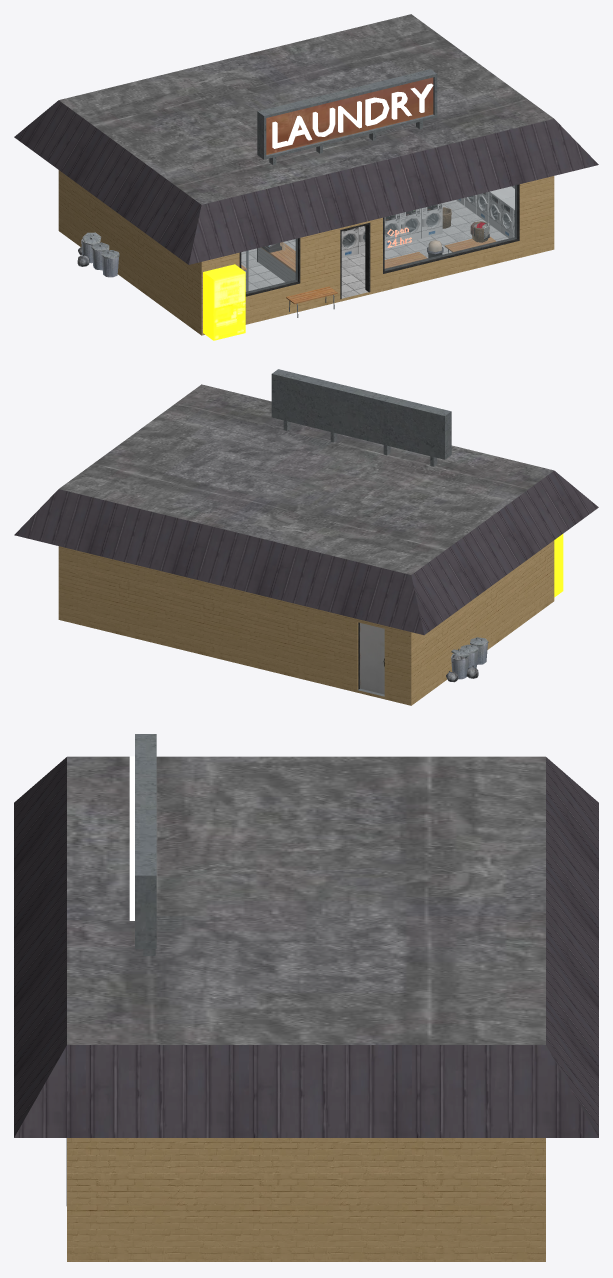
Rendered from laundromat.glb.
The picture shows the model from 3 angles, top to bottom: view 1: azimuth 30°, elevation 25°; view 2: azimuth 150°, elevation 25°; view 3: azimuth 270°, elevation 25°; orthographic projection. The views are drawn at different scales.
Parts seen in each view (by area): view 1: Laundry_building, Laundry_cover, TilesPlain, Sign_Laundry, Vending_machine, Laundry, frame_door, Text, WoodPlanksClean, Laundry_01, trash_can_01, basket; view 2: Laundry_building, TilesPlain, DoorsWood_01, trash_can_01, Vending_machine; view 3: Laundry_building, TilesPlain, Text.
Boxes of the visible parts, <box> form: Laundry_building: <box>14,14,598,335</box>; Laundry_cover: <box>241,185,516,293</box>; TilesPlain: <box>241,69,508,317</box>; Sign_Laundry: <box>266,77,433,154</box>; Vending_machine: <box>203,264,245,340</box>; Laundry: <box>341,192,514,257</box>; frame_door: <box>239,184,519,299</box>; Text: <box>272,83,433,148</box>; WoodPlanksClean: <box>241,236,496,304</box>; Laundry_01: <box>400,186,514,243</box>; trash_can_01: <box>81,232,119,277</box>; basket: <box>442,207,489,242</box>; Laundry_building: <box>14,384,598,705</box>; TilesPlain: <box>271,369,451,696</box>; DoorsWood_01: <box>360,623,384,694</box>; trash_can_01: <box>451,637,488,679</box>; Vending_machine: <box>554,534,563,597</box>; Laundry_building: <box>14,756,598,1261</box>; TilesPlain: <box>135,734,156,955</box>; Text: <box>129,756,134,920</box>.
Bounding box in the file's own units: 16.69 × 7.17 × 12.31.
42 materials, 39 textured.
